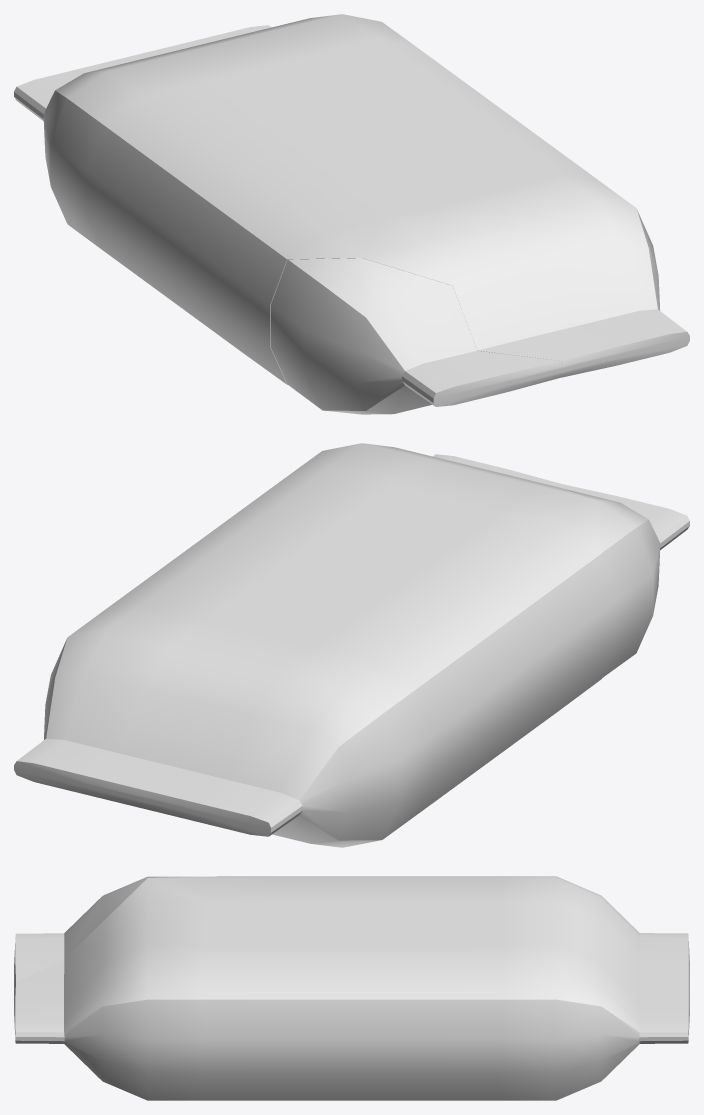
Rendered from Bonggon.fbx.
The picture shows the model from 3 angles, top to bottom: view 1: azimuth 30°, elevation 25°; view 2: azimuth 150°, elevation 25°; view 3: azimuth 270°, elevation 25°; orthographic projection. The views are drawn at different scales.
Visible parts, largest first — view 1: Goi_bong_gon_1, Goi_bong_gon_2; view 2: Goi_bong_gon_1, Goi_bong_gon_2; view 3: Goi_bong_gon_1, Goi_bong_gon_2.
Boxes of the visible parts, box(x1,y1,x2,y2) form: Goi_bong_gon_1: box(14, 14, 689, 384); Goi_bong_gon_2: box(271, 258, 562, 414); Goi_bong_gon_1: box(14, 443, 618, 847); Goi_bong_gon_2: box(562, 484, 689, 677); Goi_bong_gon_1: box(14, 876, 689, 1100); Goi_bong_gon_2: box(14, 876, 192, 984).
Bounding box in the file's own units: 3.47 × 1.54 × 7.27.
1 material, 1 textured.
